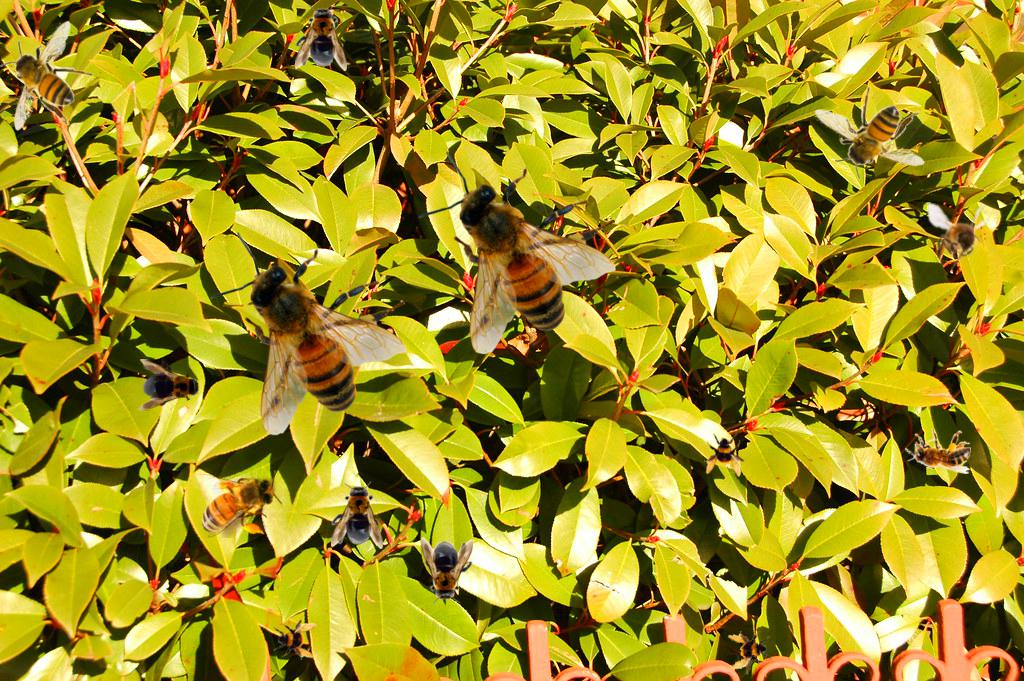Bee: (208, 232, 407, 436), (417, 151, 616, 355), (814, 86, 925, 180), (0, 20, 94, 131), (189, 470, 282, 538), (926, 198, 993, 274), (137, 359, 205, 411), (295, 3, 347, 71), (421, 537, 473, 605), (331, 481, 383, 549), (905, 429, 971, 474), (724, 626, 776, 678), (704, 433, 748, 477), (273, 616, 317, 660)
